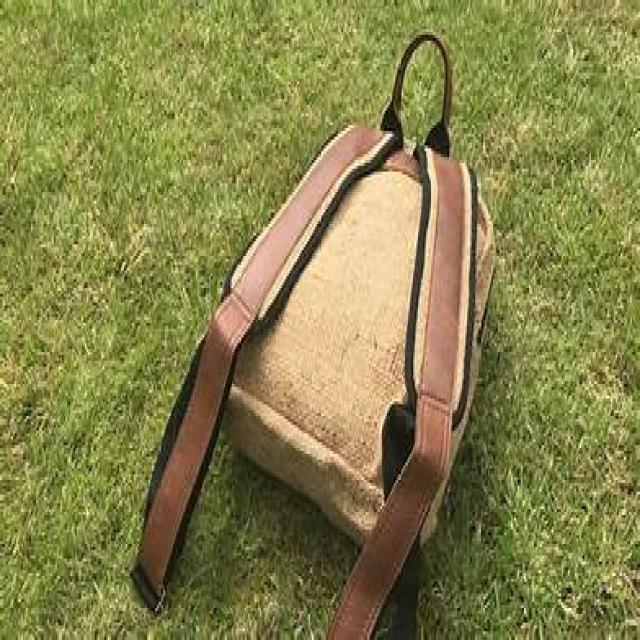backpack: (130, 30, 497, 638)
